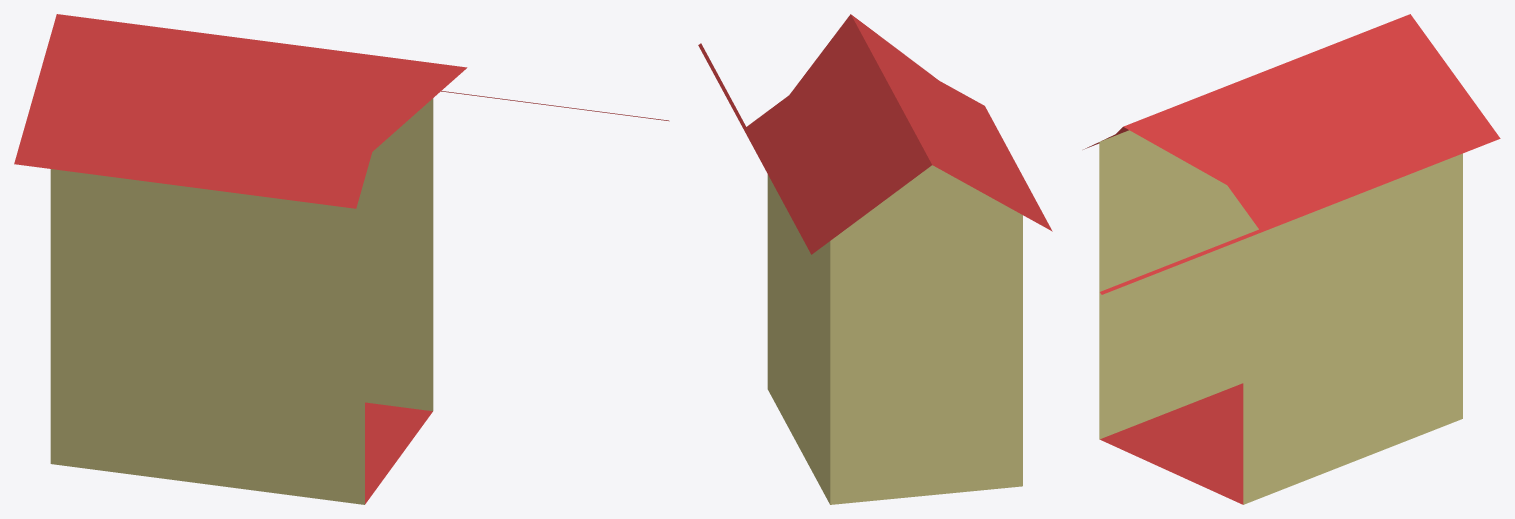
The picture shows the model from 3 angles, left to right: view 1: azimuth 30°, elevation 25°; view 2: azimuth 150°, elevation 25°; view 3: azimuth 270°, elevation 25°; orthographic projection. The views are drawn at different scales.
Size of the model in its own units: 10.59 by 7.87 by 7.55.
